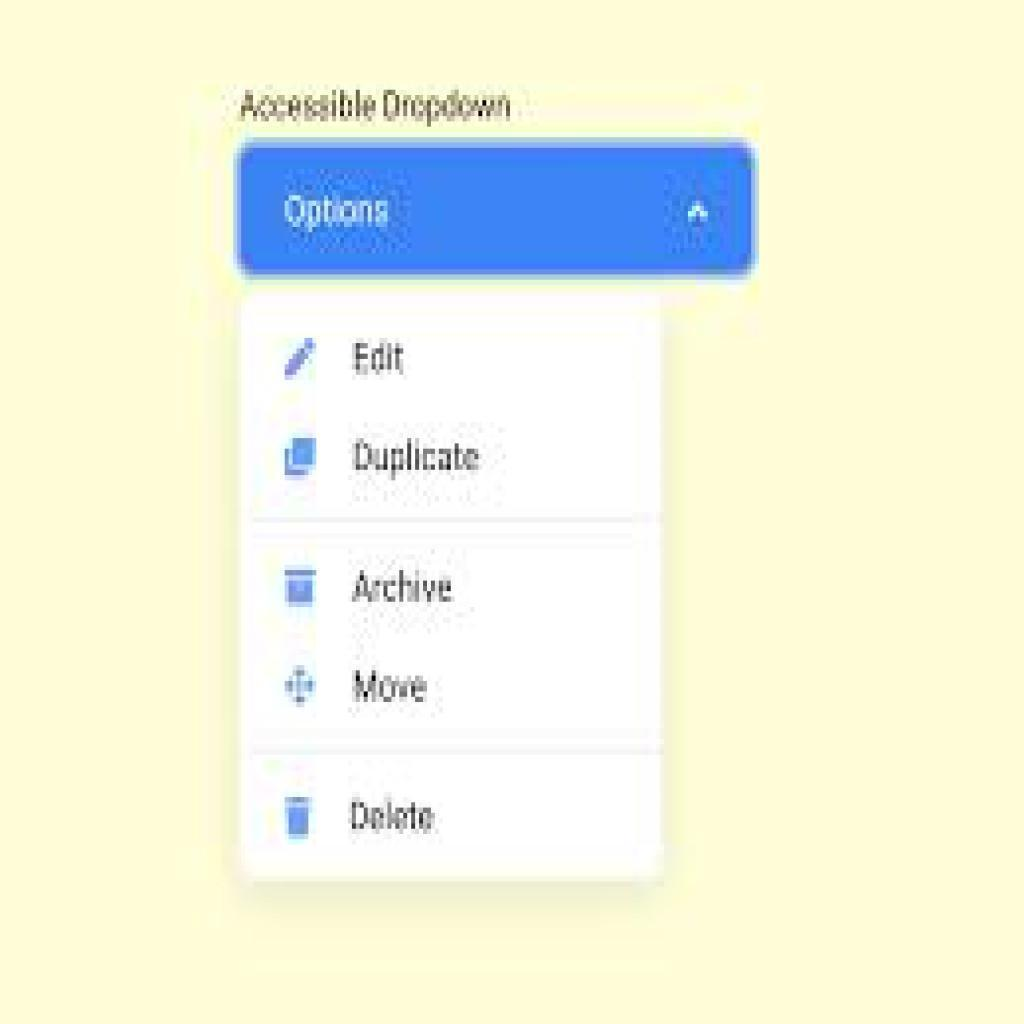dropdown: (237, 140, 758, 282)
icon: (274, 329, 327, 392), (278, 787, 327, 843), (275, 562, 325, 616), (279, 662, 322, 717), (277, 437, 326, 485)
